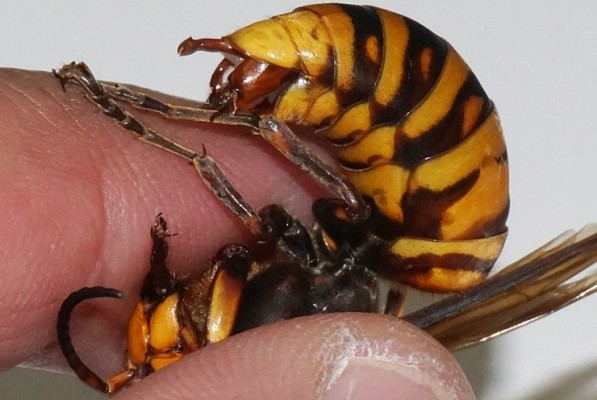asian_giant_hornet: (56, 1, 513, 399)
